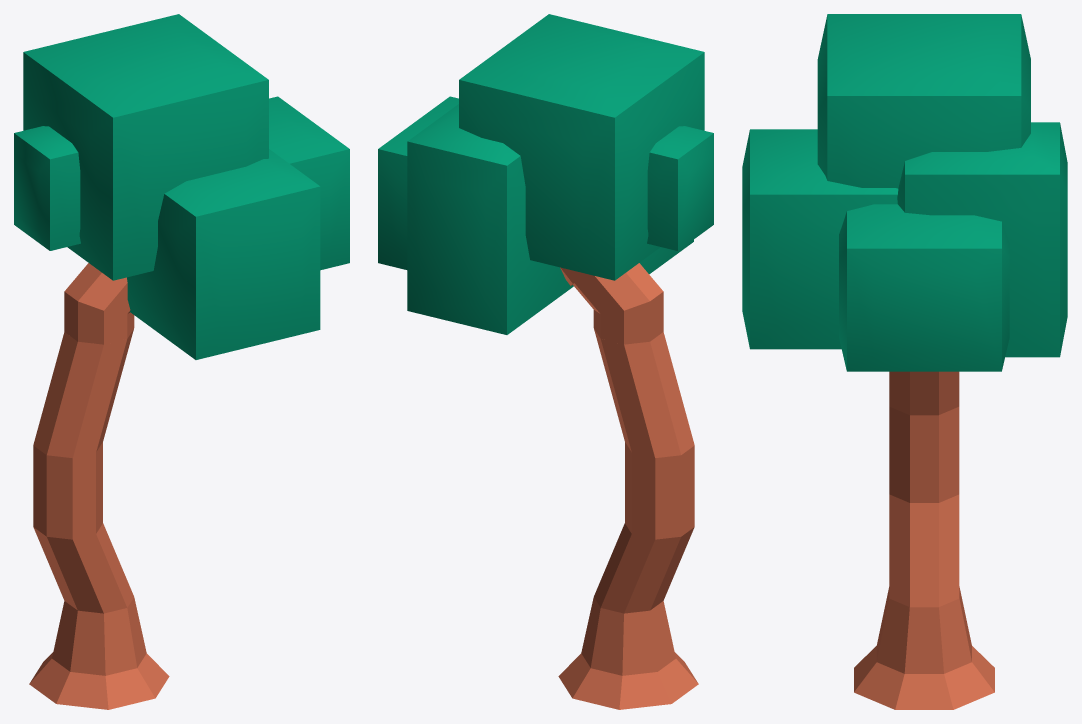
3 renders of one model, left to right at view 1: azimuth 30°, elevation 25°; view 2: azimuth 150°, elevation 25°; view 3: azimuth 270°, elevation 25°, orthographic. The views are drawn at different scales.
Parts seen in each view (by area): view 1: mergedBlocks; view 2: mergedBlocks; view 3: mergedBlocks.
Boxes of the visible parts, x1,y1,x2,y2 form: mergedBlocks: [14, 14, 349, 709]; mergedBlocks: [378, 14, 713, 709]; mergedBlocks: [742, 14, 1067, 709].
Size of the model in its own units: 18.84 by 37.5 by 16.8.
